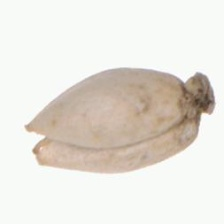L1: (178, 70, 215, 130), (24, 122, 49, 166)
L2: (28, 66, 216, 173)
